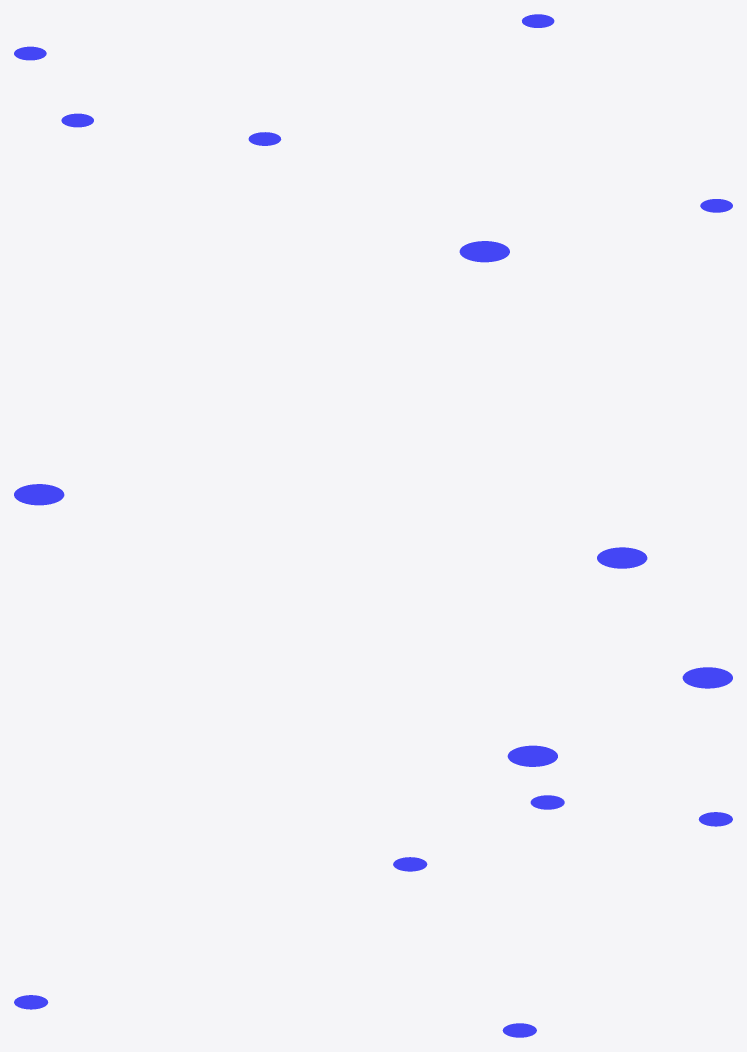
Rendered from triggersVisual.gltf.
3 views of the same model, one above another, from view 1: azimuth 30°, elevation 25°; view 2: azimuth 150°, elevation 25°; view 3: azimuth 270°, elevation 25° (orthographic). The views are drawn at different scales.
Parts seen in each view (by area): view 1: Circle; view 2: Circle; view 3: Circle.
Part boxes in pixels (left/top/right/bottom): Circle: left=14, top=14, right=732, bottom=212; Circle: left=14, top=241, right=732, bottom=766; Circle: left=14, top=795, right=732, bottom=1037.
Bounding box in the file's own units: 50.28 × 0 × 63.01.
